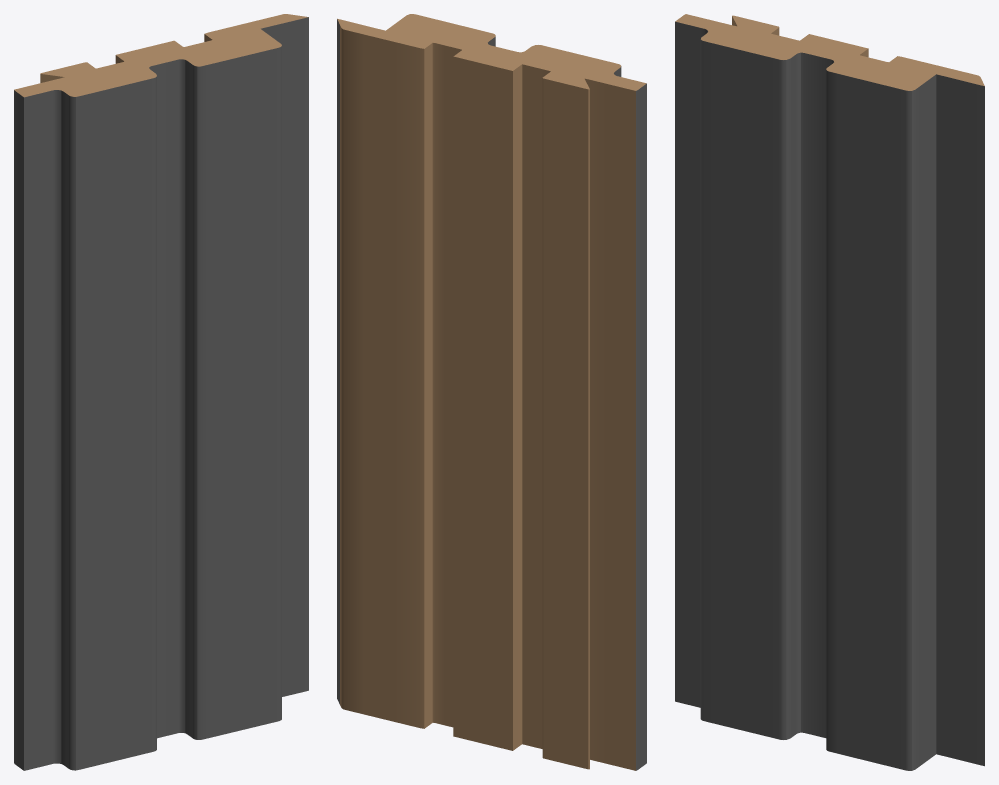
File: vega.glb
The picture shows the model from 3 angles, left to right: view 1: azimuth 30°, elevation 25°; view 2: azimuth 150°, elevation 25°; view 3: azimuth 330°, elevation 25°; orthographic projection.
Visible parts, largest first — view 1: root; view 2: root; view 3: root.
Boxes of the visible parts, x1,y1,x2,y2 form: root: [14, 14, 308, 770]; root: [337, 14, 646, 770]; root: [675, 14, 984, 770].
Bounding box in the file's own units: 0.092 × 0.2 × 0.018.
